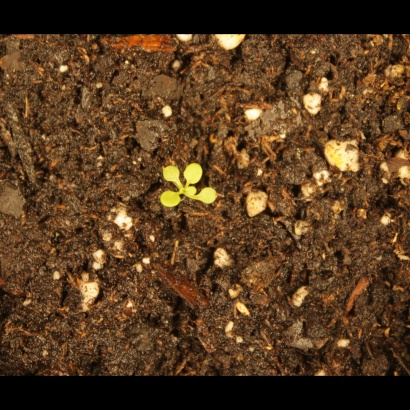leaf: (182, 160, 207, 189), (197, 184, 220, 210), (161, 164, 184, 189), (159, 188, 182, 212)
